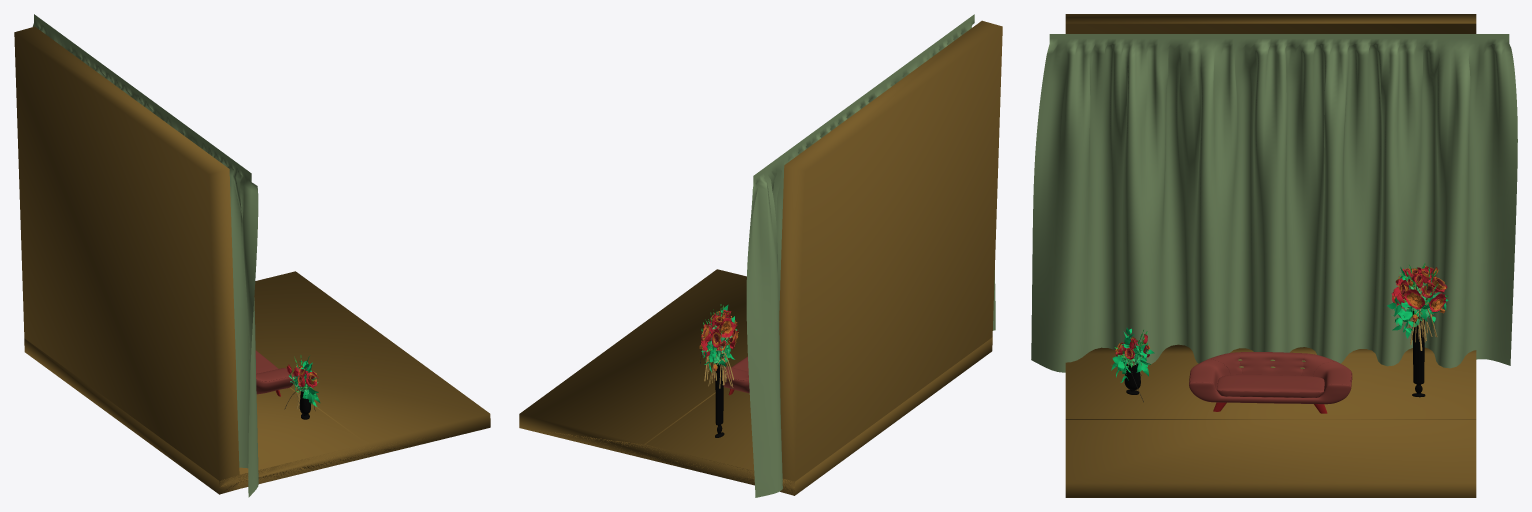
3 renders of one model, left to right at view 1: azimuth 30°, elevation 25°; view 2: azimuth 150°, elevation 25°; view 3: azimuth 270°, elevation 25°, orthographic. The views are drawn at different scales.
Parts seen in each view (by area): view 1: Cube, Сurtain, Ritchie_Armchair_RainbowButtons; view 2: Cube, Сurtain, Ritchie_Armchair_RainbowButtons, vase1; view 3: Сurtain, Cube, Ritchie_Armchair_RainbowButtons, vase1.
Boxes of the visible parts, left/top/right/bottom form: Cube: left=14, top=26, right=490, bottom=494; Сurtain: left=32, top=14, right=258, bottom=497; Ritchie_Armchair_RainbowButtons: left=255, top=350, right=294, bottom=396; Cube: left=519, top=20, right=1002, bottom=495; Сurtain: left=746, top=14, right=995, bottom=497; Ritchie_Armchair_RainbowButtons: left=713, top=356, right=749, bottom=395; vase1: left=715, top=356, right=724, bottom=437; Сurtain: left=1031, top=34, right=1517, bottom=372; Cube: left=1065, top=14, right=1476, bottom=497; Ritchie_Armchair_RainbowButtons: left=1189, top=352, right=1352, bottom=413; vase1: left=1412, top=311, right=1425, bottom=397.
Size of the model in its own units: 4.12 by 4.52 by 5.85.
